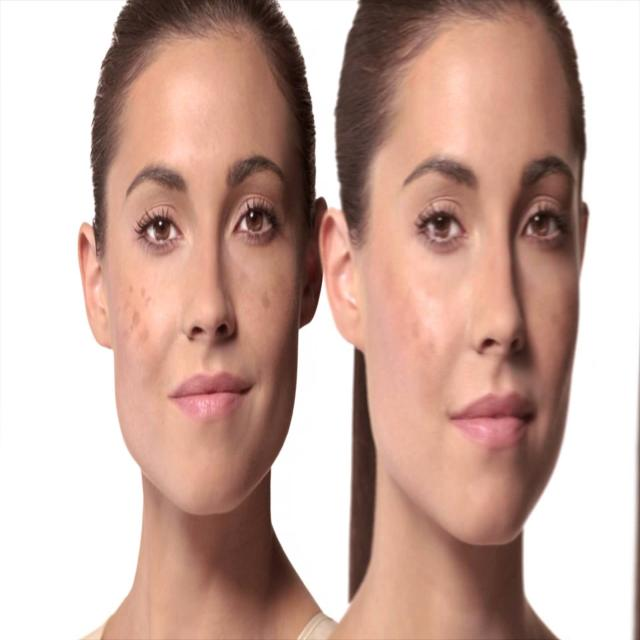Dark-Spots: (384, 264, 443, 404), (118, 272, 158, 358), (240, 273, 296, 333), (539, 294, 583, 370)
